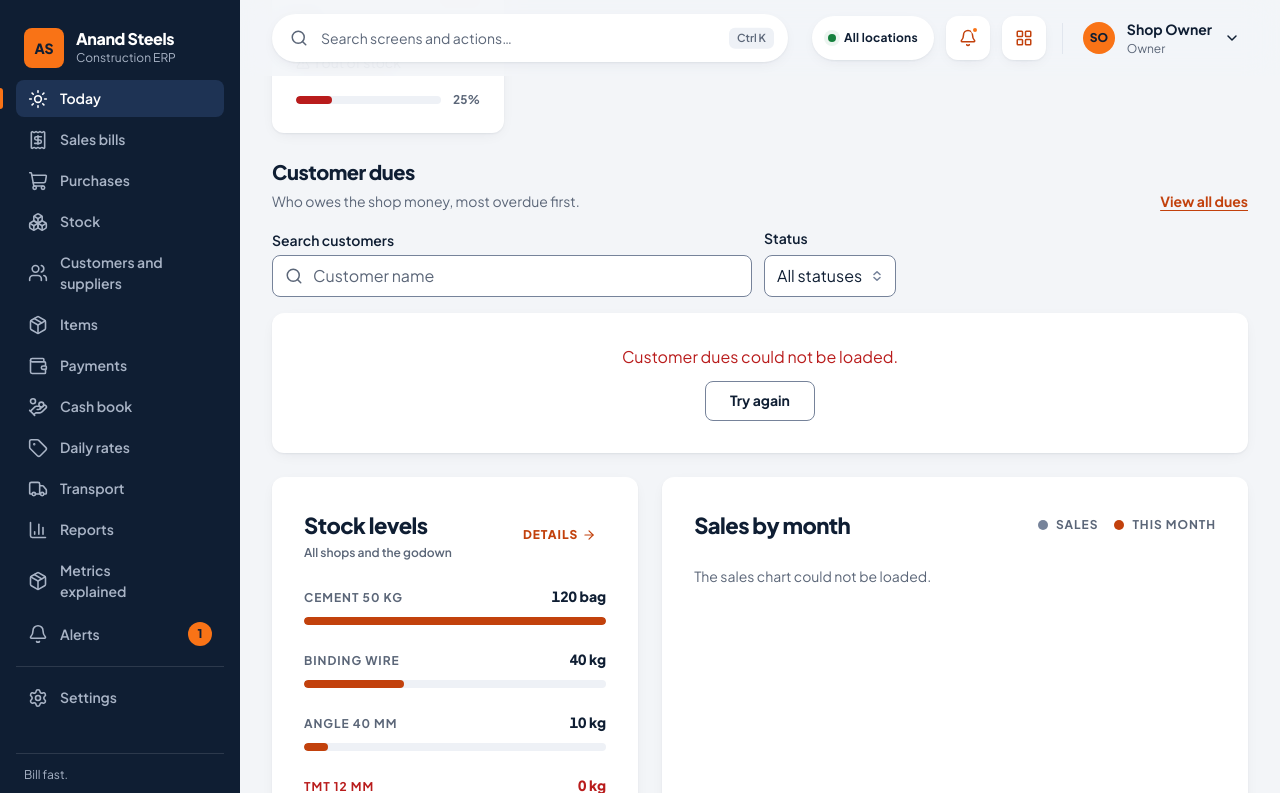
Test: Today for the owner › shows an error with a retry when the dues cannot be loaded
The image size is (1280, 793).
(page scrolled)
Check: the text "Customer dues could not be loaded." is shown, box [622,345,898,369]
Click the button "Try again" at (760, 401), box [705,381,815,421]
(page scrolled)
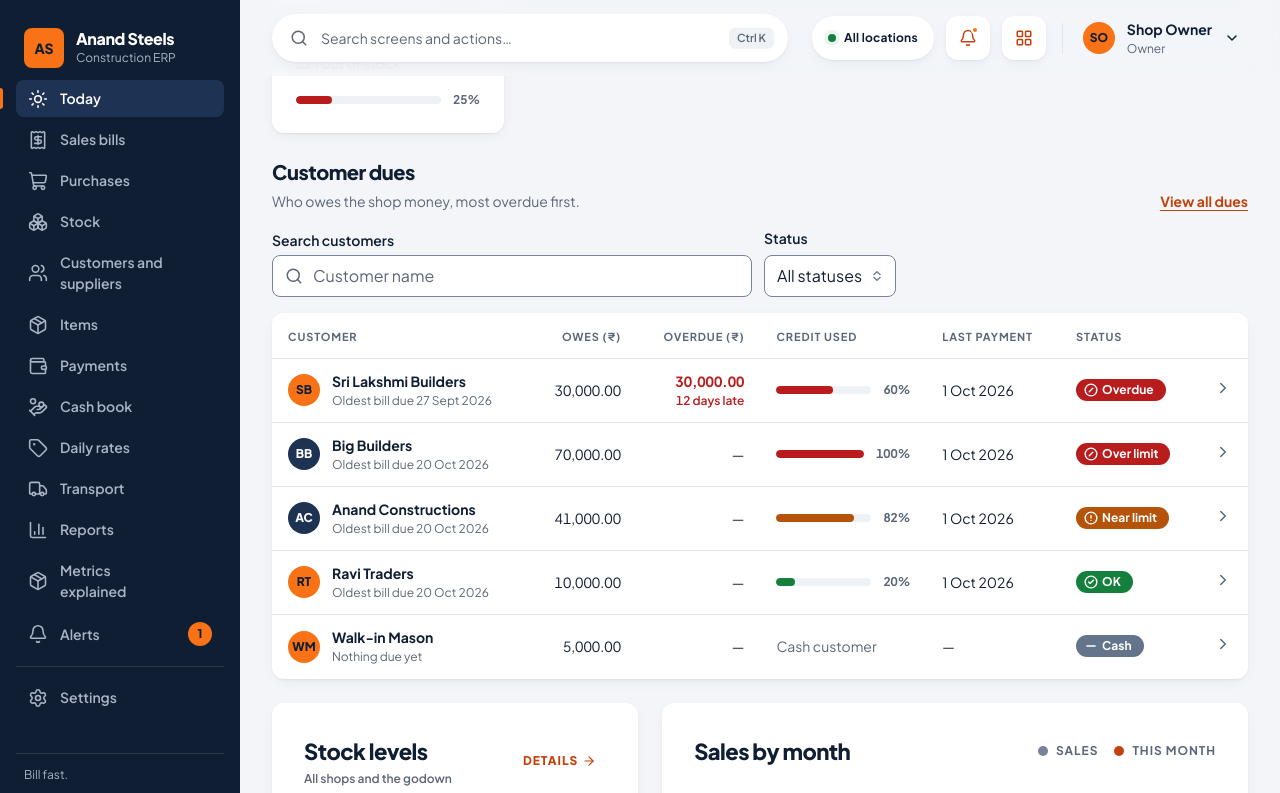
Check: the text "Sri Lakshmi Builders" is shown, box [332,372,466,390]
